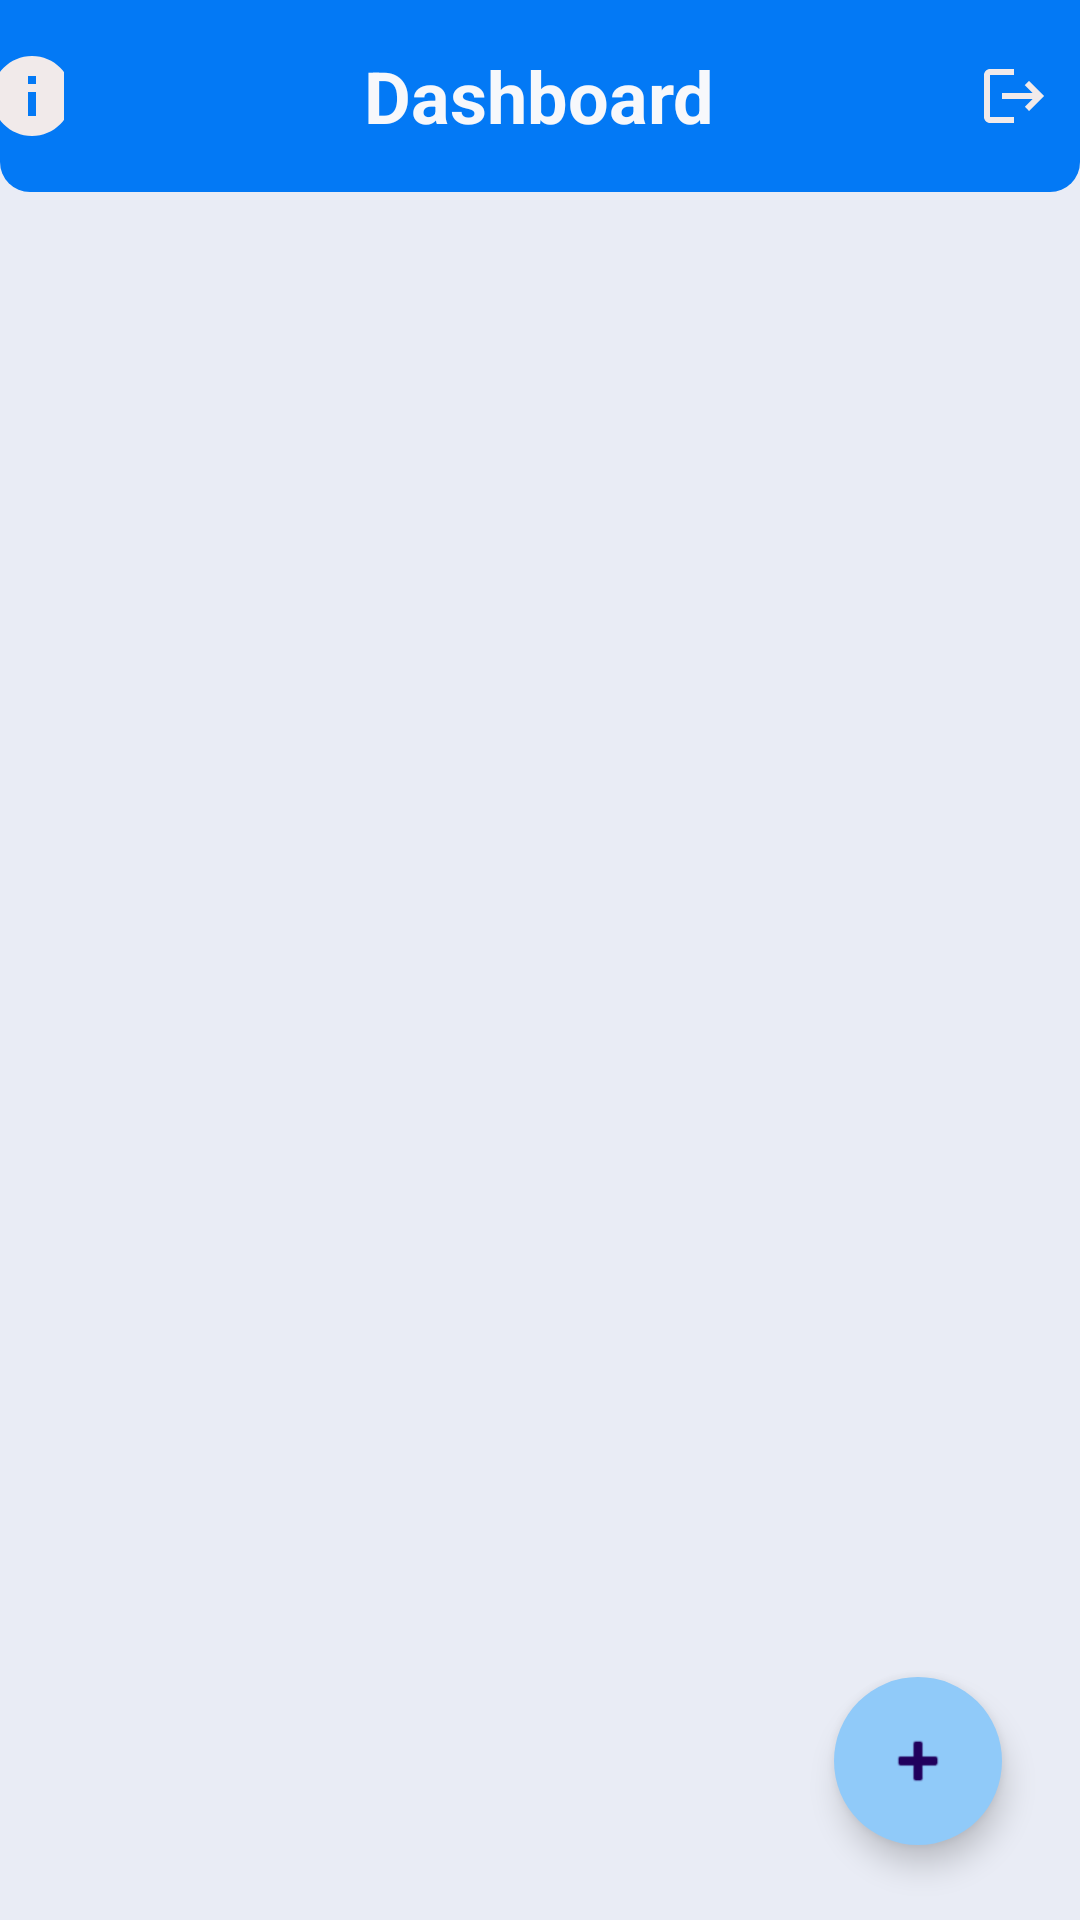

Icon bounding boxes for this 1080*1920 phone screenshot, format (x1, y1, x2, y2):
add: (834, 1677, 1002, 1845)
info: (0, 56, 64, 136)
